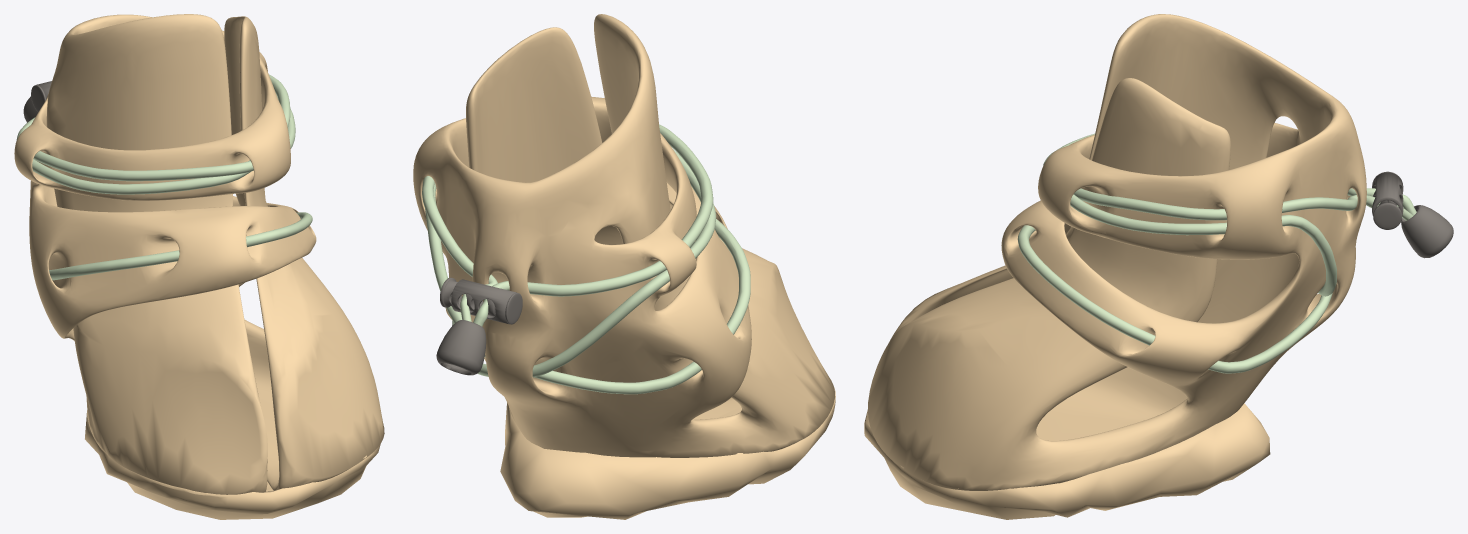
Rendered from dog-shoe.glb.
The picture shows the model from 3 angles, left to right: view 1: azimuth 30°, elevation 25°; view 2: azimuth 150°, elevation 25°; view 3: azimuth 270°, elevation 25°; orthographic projection. The views are drawn at different scales.
Parts seen in each view (by area): view 1: part_0, part_1, part_3; view 2: part_0, part_3, part_1, part_4, part_7, part_5; view 3: part_0, part_3, part_1, part_4, part_7, part_5.
Boxes of the visible parts, x1,y1,x2,y2 form: part_0: [14, 14, 384, 494]; part_1: [16, 74, 312, 280]; part_3: [85, 410, 380, 519]; part_0: [413, 14, 834, 457]; part_3: [500, 380, 835, 519]; part_1: [422, 124, 750, 394]; part_4: [436, 320, 486, 375]; part_7: [451, 279, 516, 324]; part_5: [440, 277, 495, 316]; part_0: [868, 14, 1366, 490]; part_3: [864, 403, 1270, 519]; part_1: [1017, 133, 1416, 373]; part_4: [1401, 205, 1453, 258]; part_7: [1372, 172, 1403, 215]; part_5: [1373, 200, 1401, 229].
Size of the model in its own units: 326 by 519 by 620.
